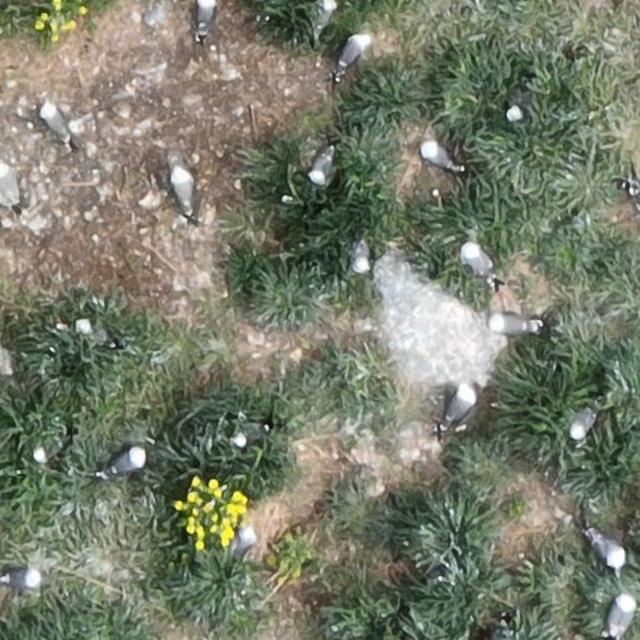umineko: (34, 429, 76, 463), (445, 386, 473, 424), (464, 246, 494, 280), (337, 35, 366, 70), (595, 536, 626, 568), (608, 597, 632, 635), (174, 168, 194, 213), (108, 449, 144, 473), (422, 144, 454, 170), (350, 235, 371, 273), (3, 569, 42, 589), (492, 314, 533, 333), (43, 106, 67, 138), (504, 94, 528, 126), (77, 321, 113, 342), (308, 150, 330, 182), (571, 409, 594, 438), (236, 422, 264, 444), (197, 0, 214, 33), (234, 526, 254, 552), (318, 1, 333, 29)
